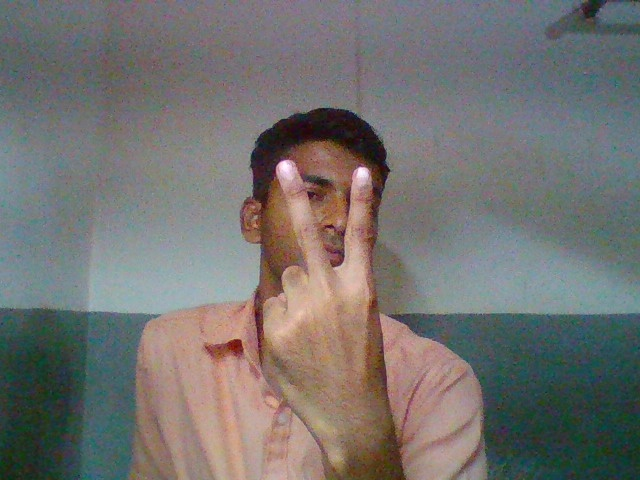V: (242, 151, 403, 437)
